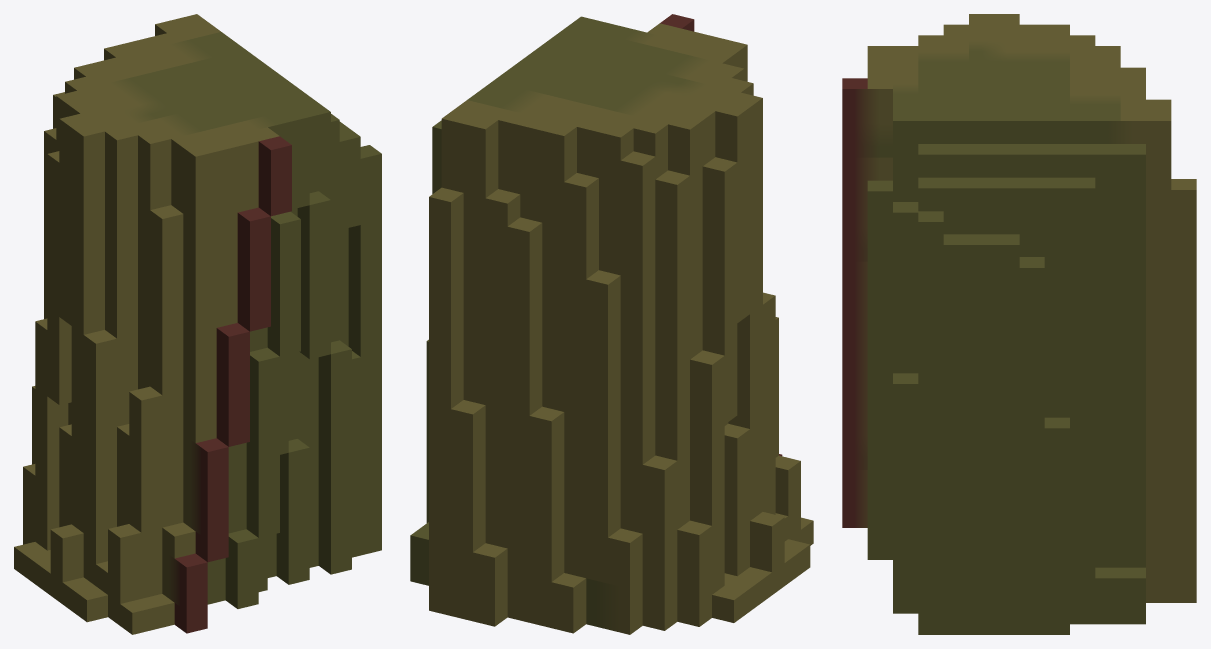
File: NB_TR_F_Skirt_leg_r.fbx
3 views of the same model, side by side, from view 1: azimuth 30°, elevation 25°; view 2: azimuth 150°, elevation 25°; view 3: azimuth 270°, elevation 25° (orthographic). The views are drawn at different scales.
Parts seen in each view (by area): view 1: Skirt_leg_r; view 2: Skirt_leg_r; view 3: Skirt_leg_r.
Part boxes in pixels (x1=…): Skirt_leg_r: x1=14, y1=14, x2=381, y2=634; Skirt_leg_r: x1=410, y1=14, x2=813, y2=634; Skirt_leg_r: x1=842, y1=14, x2=1196, y2=634.
Bounding box in the file's own units: 14 × 21 × 14.
1 material, 1 textured.
